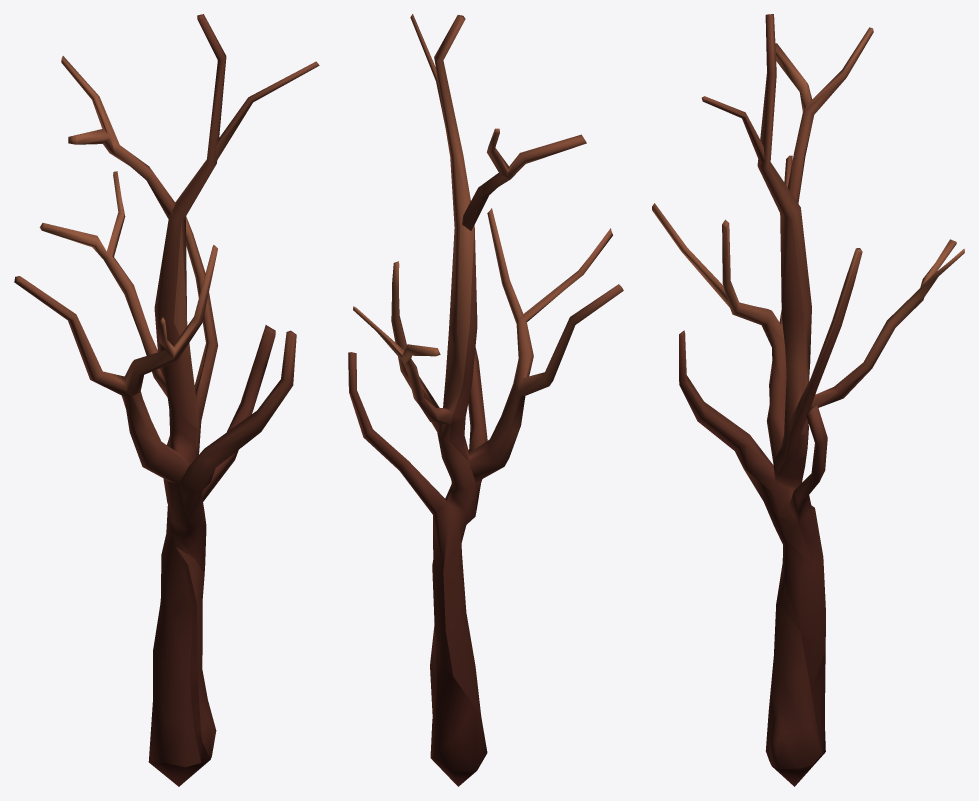
Rendered from Dry_Tree_1B.fbx.
The picture shows the model from 3 angles, left to right: view 1: azimuth 30°, elevation 25°; view 2: azimuth 150°, elevation 25°; view 3: azimuth 270°, elevation 25°; orthographic projection. The views are drawn at different scales.
Visible parts, largest first — view 1: Dry_Tree_1B; view 2: Dry_Tree_1B; view 3: Dry_Tree_1B.
Part boxes in pixels (left/top/right/bottom): Dry_Tree_1B: left=14, top=14, right=319, bottom=786; Dry_Tree_1B: left=348, top=14, right=623, bottom=786; Dry_Tree_1B: left=652, top=14, right=964, bottom=786.
Bounding box in the file's own units: 465 × 1272 × 463.
